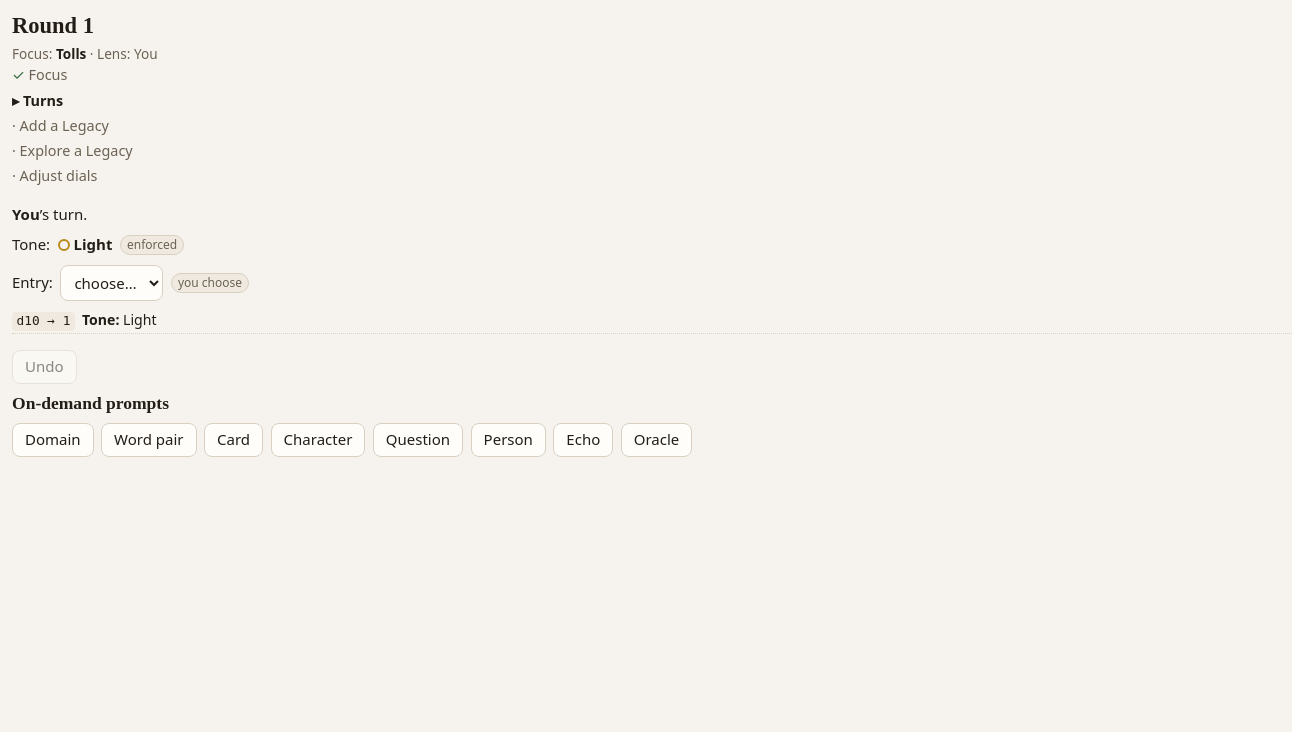
Scenario: turn panel prompts › draws a Question and a Person from a linked toolkit
Click the button "Question": point(418, 440) x1=373 y1=423 x2=463 y2=458
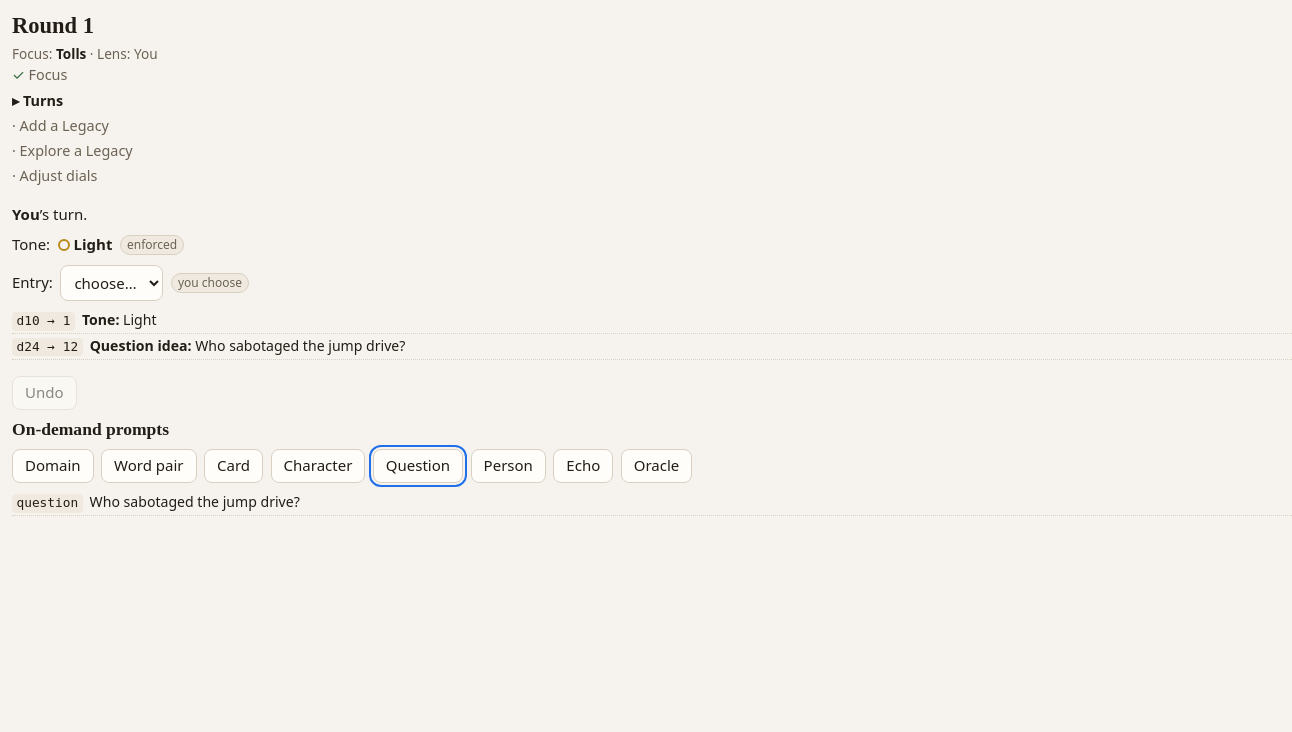
Click the button "Person": point(508, 466) x1=471 y1=449 x2=546 y2=483
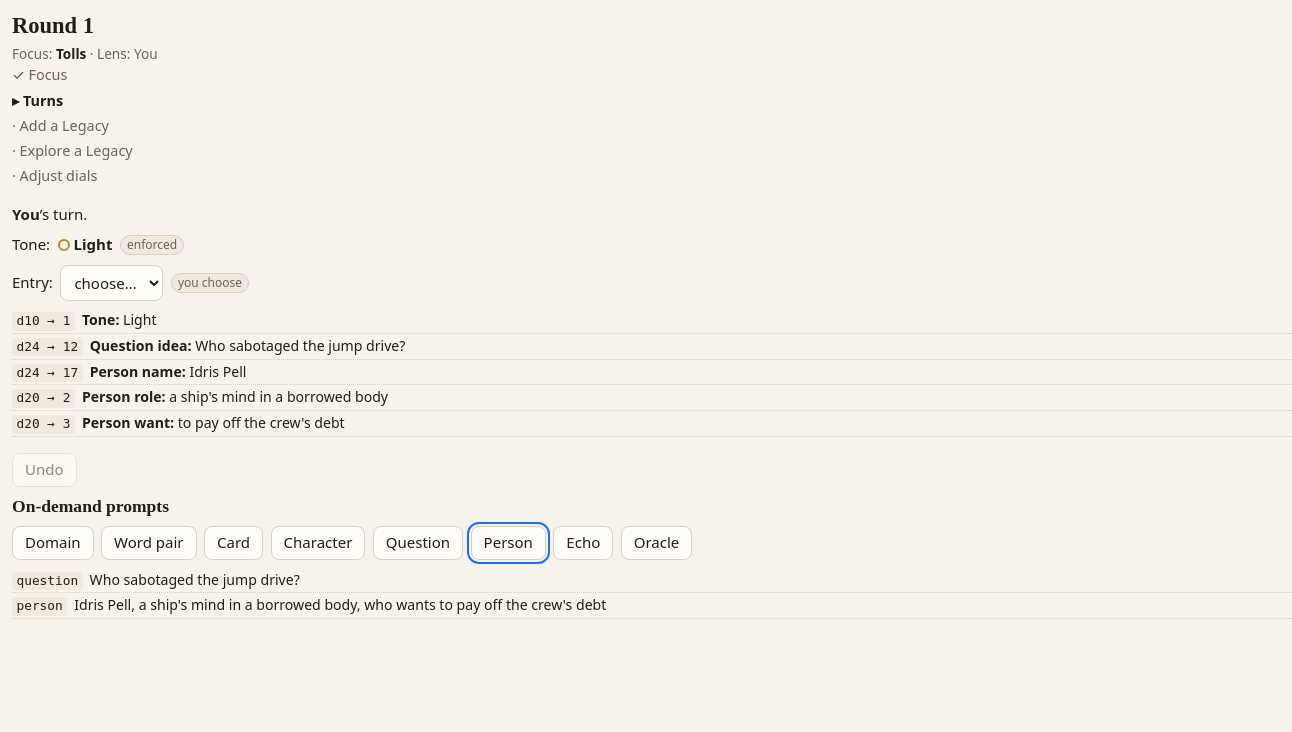
Result: the list named "Prompts drawn" shows "Who sabotaged the jump drive?" at x1=90 y1=570 x2=300 y2=589
Result: the list named "This turn’s rolls" shows "Question idea:" at x1=12 y1=308 x2=1291 y2=437
Result: the list named "This turn’s rolls" shows "Person name:" at x1=12 y1=308 x2=1291 y2=437
